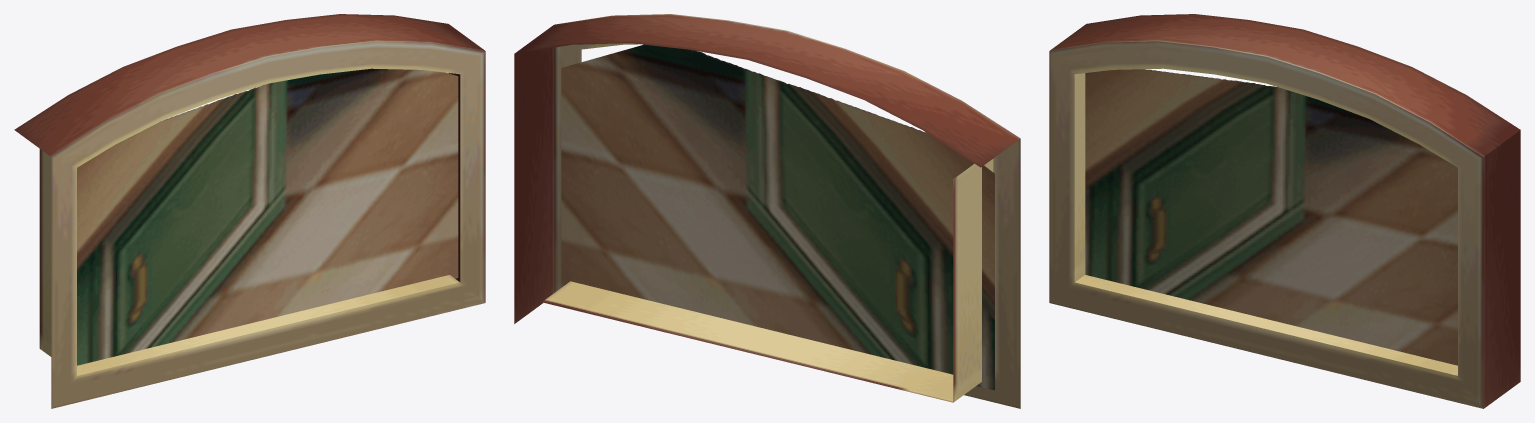
Rendered from K1_wicket.FBX.
3 views of the same model, side by side, from view 1: azimuth 30°, elevation 25°; view 2: azimuth 150°, elevation 25°; view 3: azimuth 330°, elevation 25° (orthographic). The views are drawn at different scales.
Visible parts, largest first — view 1: wicket_2, wicket_1; view 2: wicket_2, wicket_1; view 3: wicket_2, wicket_1.
Boxes of the visible parts, left/top/right/bottom form: wicket_2: left=77, top=68, right=458, bottom=365; wicket_1: left=14, top=14, right=485, bottom=408; wicket_2: left=561, top=44, right=994, bottom=390; wicket_1: left=514, top=14, right=1020, bottom=408; wicket_2: left=1085, top=69, right=1457, bottom=365; wicket_1: left=1049, top=14, right=1520, bottom=408.
Bounding box in the file's own units: 71.31 × 46.93 × 10.56.
